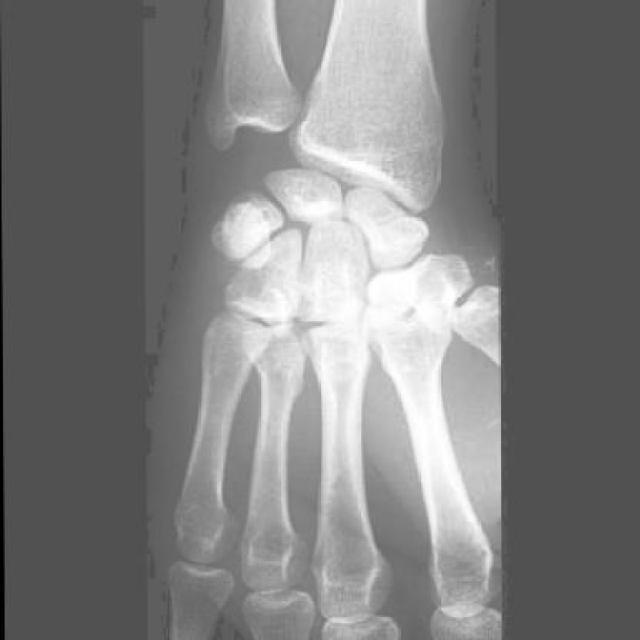Fracture: (371, 209, 414, 237)
